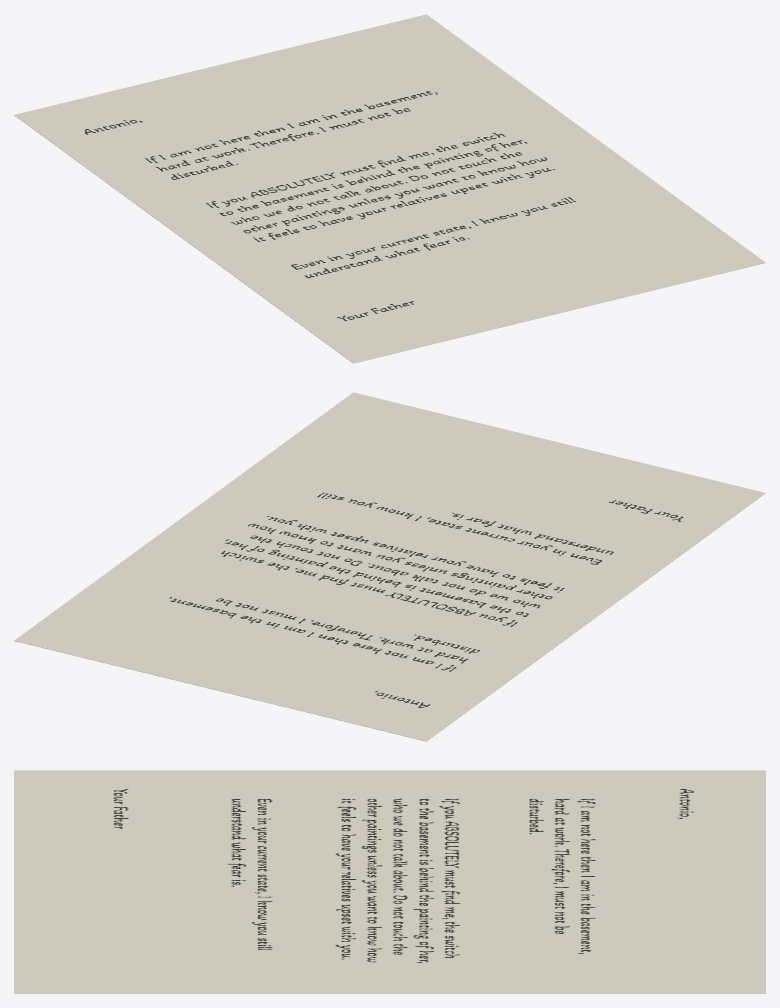
File: To-AntonioCenter.fbx
The picture shows the model from 3 angles, top to bottom: view 1: azimuth 30°, elevation 25°; view 2: azimuth 150°, elevation 25°; view 3: azimuth 270°, elevation 25°; orthographic projection. The views are drawn at different scales.
Visible parts, largest first — view 1: Paper; view 2: Paper; view 3: Paper, THickness.
Boxes of the visible parts, bbox=[...] form: Paper: bbox=[14, 14, 765, 363]; Paper: bbox=[14, 392, 765, 741]; Paper: bbox=[14, 770, 765, 993]; THickness: bbox=[14, 993, 765, 993].
Bounding box in the file's own units: 51.12 × 0.026 × 72.84.
